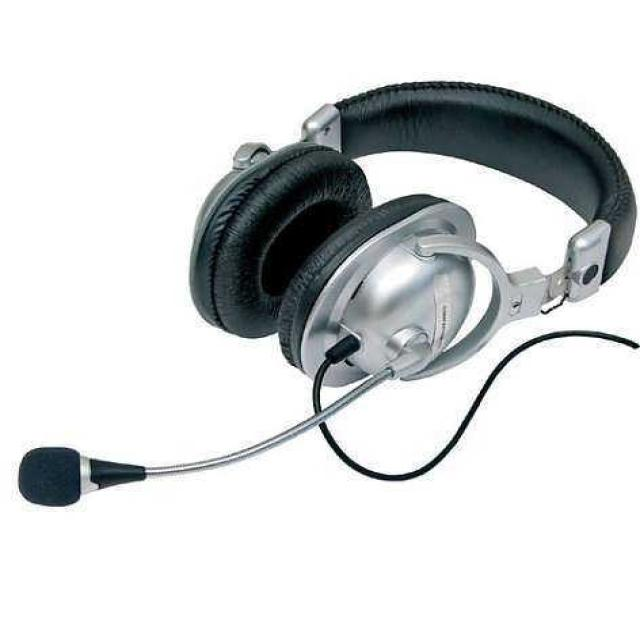microphone: (15, 447, 143, 507)
